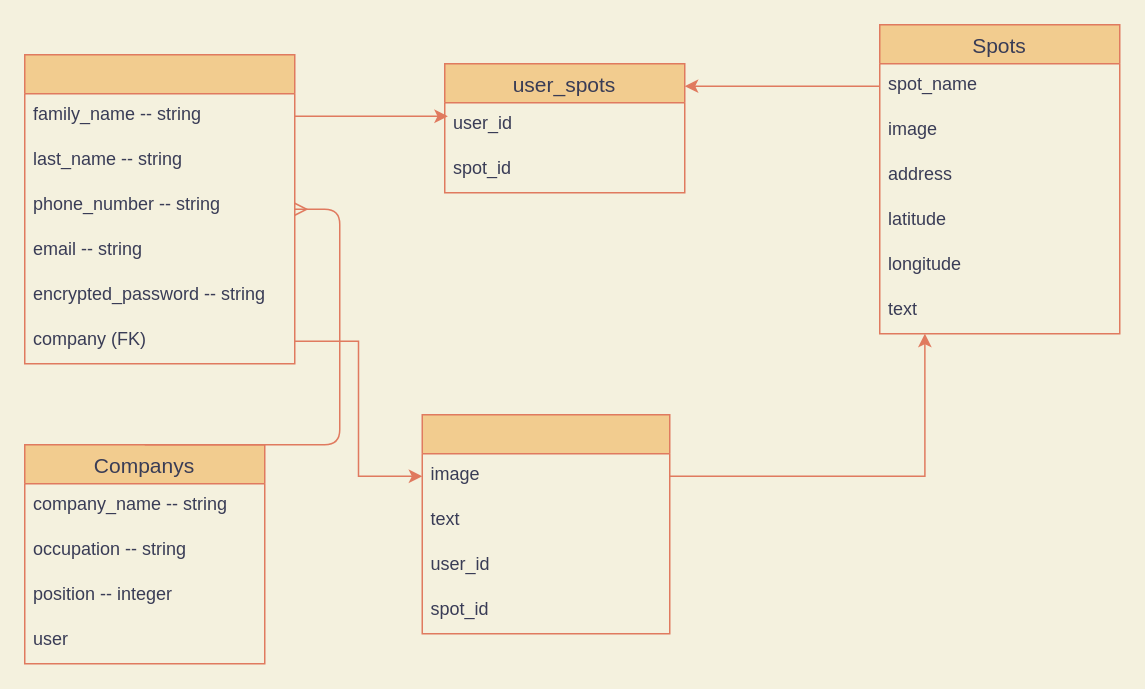
This 1145x689 diagram has some shape labels left out. Here are the shapes that lost their labels. From the top down, the box of each, then its label:
(23, 53, 295, 364): Users
(421, 413, 670, 634): Plans
